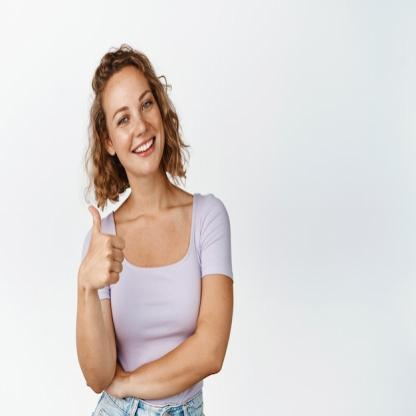thumb_up: (78, 199, 127, 291)
